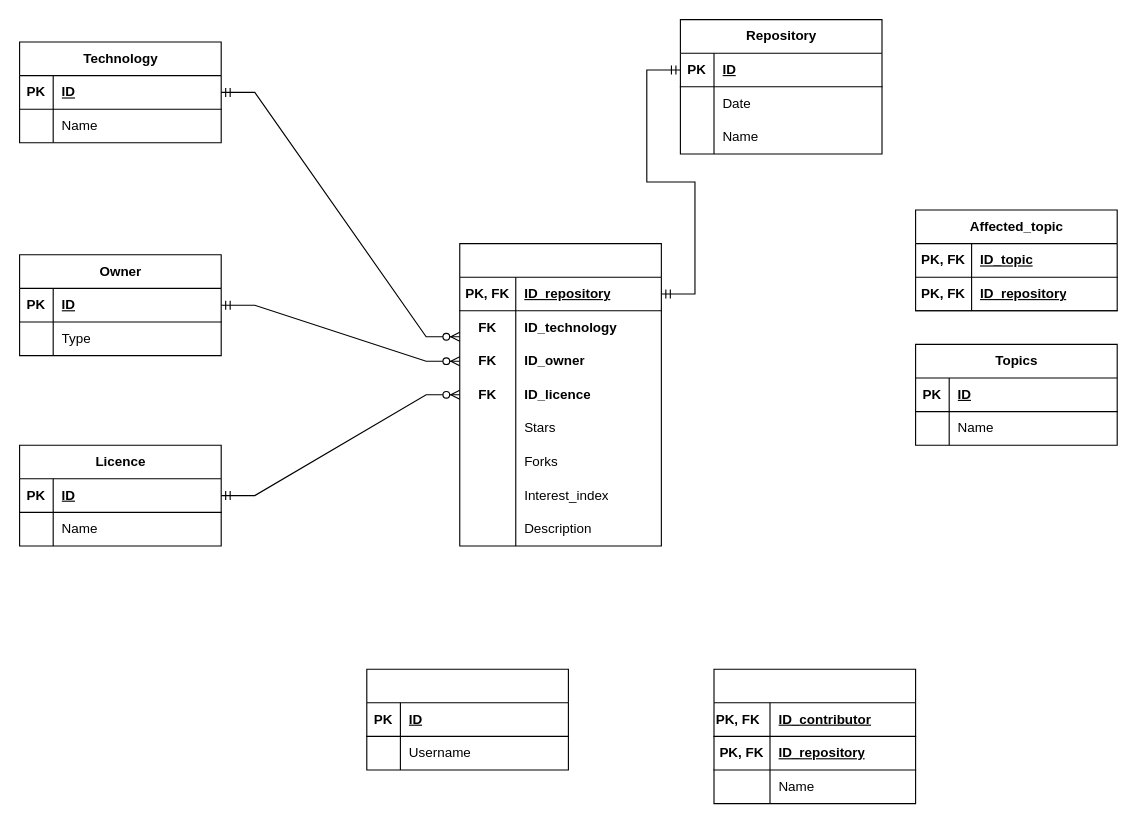
This 1137x823 diagram has some shape labels left out. Each missing label, with the box of its shape:
Commit: (713, 668, 916, 804)
Contributor: (366, 668, 568, 770)
Repository_details: (459, 242, 661, 546)
